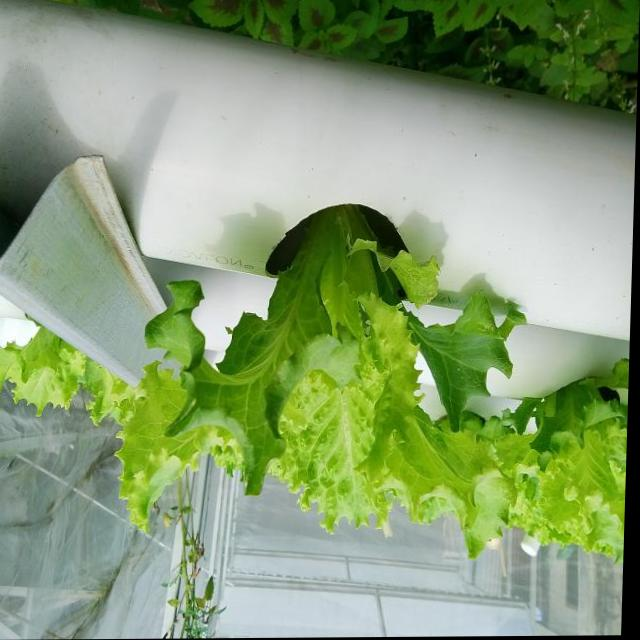Baby: (119, 205, 538, 559)
